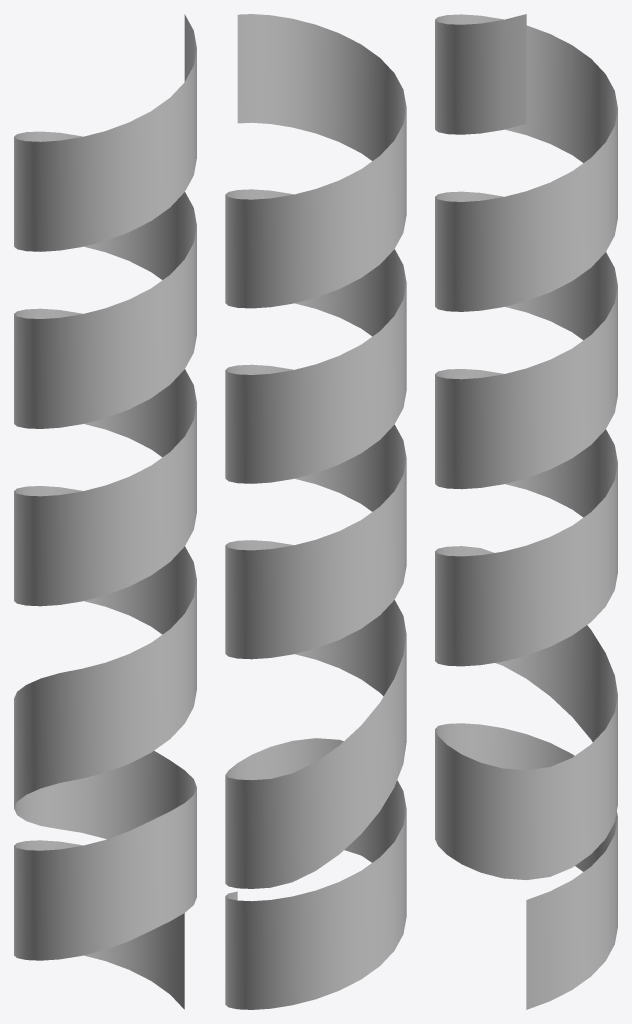
The model's file is Spiral_007.obj.
3 renders of one model, left to right at view 1: azimuth 30°, elevation 25°; view 2: azimuth 150°, elevation 25°; view 3: azimuth 270°, elevation 25°, orthographic.
Visible parts, largest first — view 1: Spiral.007; view 2: Spiral.007; view 3: Spiral.007.
Boxes of the visible parts, box(x1,y1,x2,y2) form: Spiral.007: box(14, 14, 196, 1009); Spiral.007: box(225, 14, 406, 1009); Spiral.007: box(435, 14, 617, 1009).
Size of the model in its own units: 0.1379 by 0.8284 by 0.1379.
Materials: 1 (1 with a texture image).
